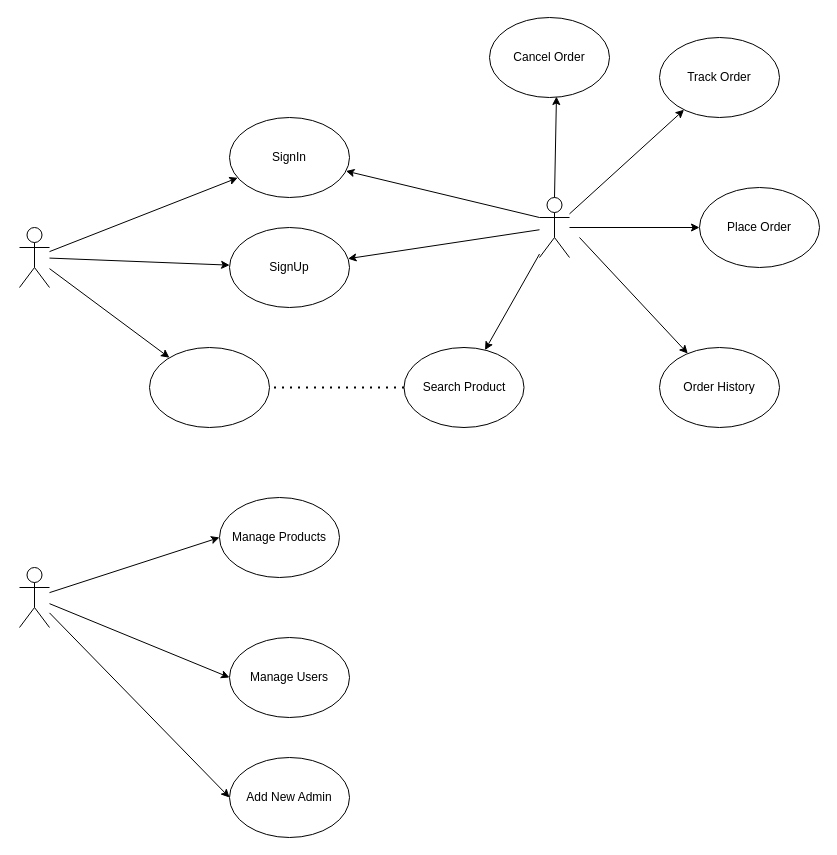
Image size: 837x855. Some labels were removed from this diagram. Each missing label, with the centre of its shape:
"Admin" goes at point (34, 597).
"Buyer" goes at point (554, 227).
"Seller" goes at point (34, 257).
"Submit Product" goes at point (209, 387).
